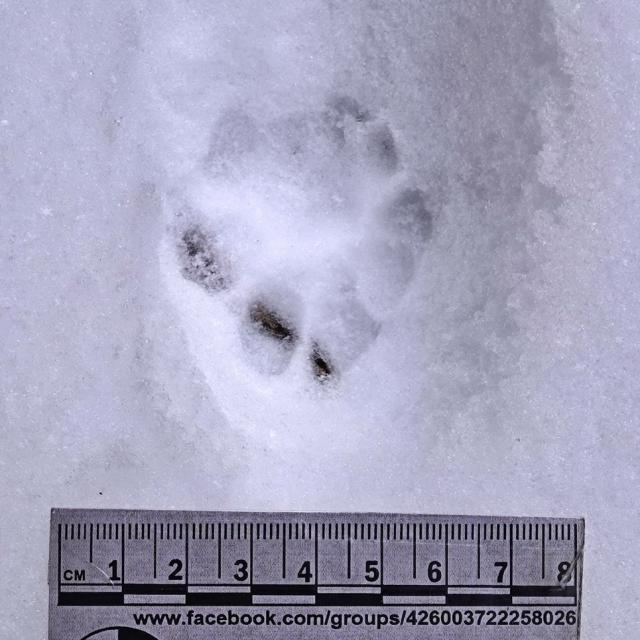felid: (182, 101, 436, 381)
